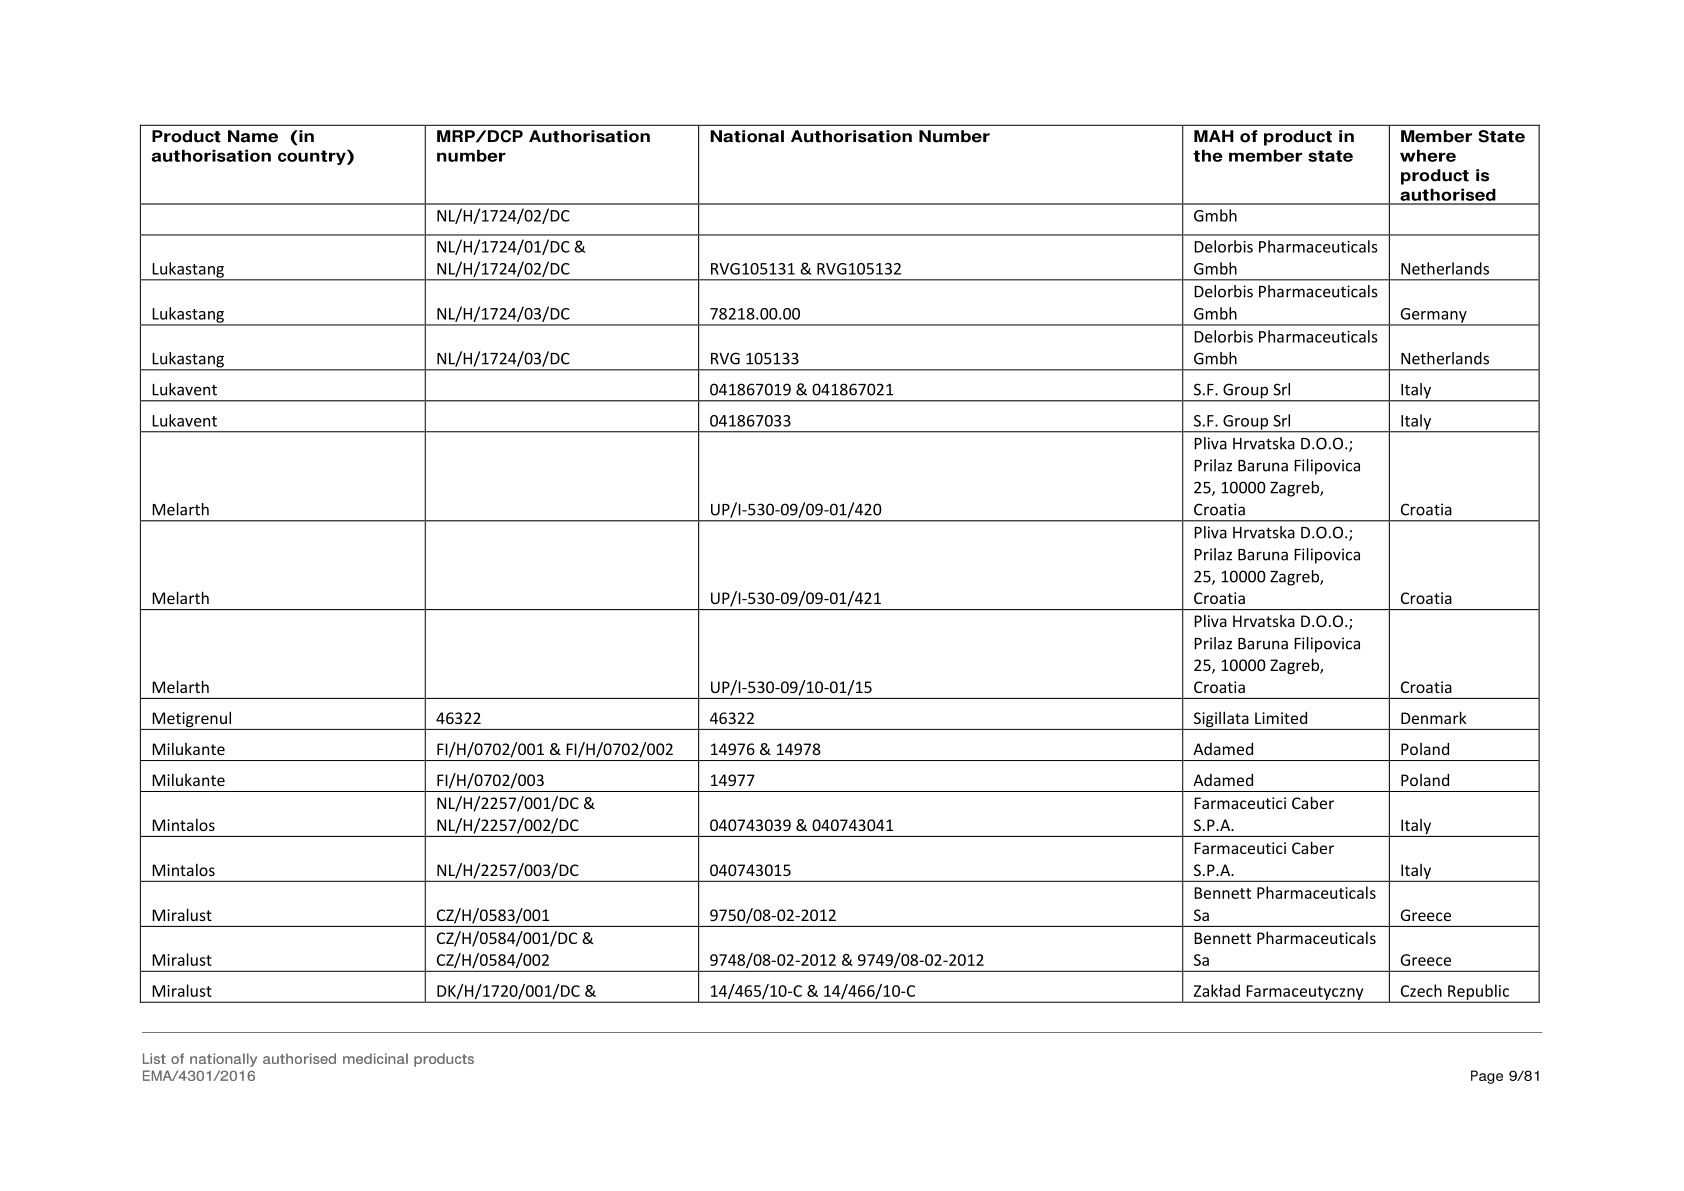full_lined: (139, 122, 1540, 1004)
